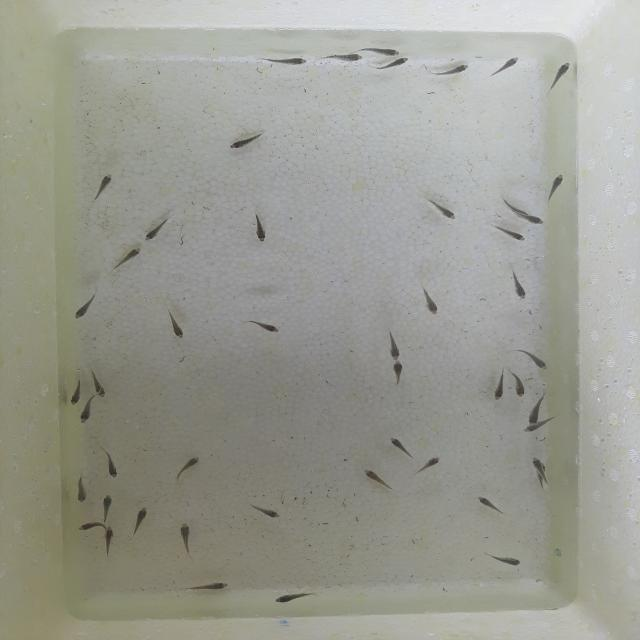fingerling: (227, 128, 271, 154), (362, 467, 398, 494), (489, 52, 523, 80), (142, 214, 174, 242), (89, 171, 115, 205), (548, 59, 572, 92), (164, 310, 188, 340), (261, 54, 311, 68), (114, 246, 144, 269), (430, 62, 473, 78), (419, 287, 442, 316), (429, 198, 459, 220), (508, 271, 530, 301), (379, 56, 415, 74), (129, 505, 150, 535), (74, 294, 98, 320), (316, 52, 363, 65), (504, 200, 534, 220), (176, 454, 202, 477), (101, 524, 118, 558), (178, 520, 196, 552), (272, 590, 312, 604), (388, 436, 413, 458), (494, 221, 526, 238), (522, 351, 549, 371), (72, 479, 92, 505), (183, 581, 230, 592), (415, 455, 442, 474), (252, 210, 268, 242), (525, 395, 543, 423), (364, 43, 402, 56), (487, 553, 522, 567), (250, 319, 282, 334), (66, 382, 84, 408), (78, 400, 95, 427), (249, 507, 283, 520), (389, 361, 406, 387), (100, 493, 115, 521), (388, 331, 402, 360), (474, 495, 499, 511), (521, 420, 546, 436), (90, 377, 109, 397), (546, 178, 562, 201), (530, 456, 546, 479), (497, 372, 509, 400), (107, 455, 120, 479), (513, 376, 526, 398), (77, 519, 97, 533)
